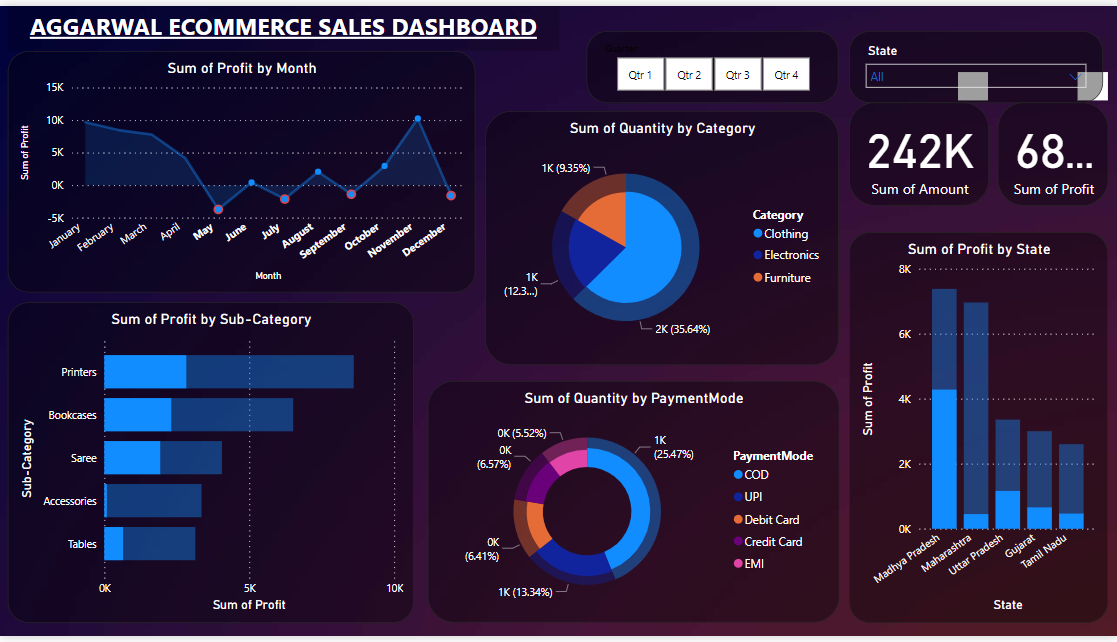

Layout of this report page (visuals, bound fields, positions):
{"tool":"powerbi","page":{"name":"Page 1","canvas":[1280,720],"ordinal":0},"visuals":[{"type":"textbox","box":[10,0,630,51.4],"z":0},{"type":"areaChart","fields":{"Category":["Orders.Order Date.Variation.Date Hierarchy.Month"],"Y":["Sum(Details.Profit)"]},"box":[10,51.4,534.3,275.7],"z":1000},{"type":"barChart","fields":{"Category":["Details.Sub-Category"],"Y":["Sum(Details.Profit)"]},"box":[10,338,464,366],"z":2000},{"type":"pieChart","fields":{"Category":["Details.Category"],"Y":["Sum(Details.Quantity)"]},"box":[556,120,404,290],"z":3000},{"type":"donutChart","fields":{"Y":["Sum(Details.Quantity)"],"Category":["Details.PaymentMode"]},"box":[490,428,470,276],"z":4000},{"type":"card","fields":{"Values":["Sum(Details.Amount)"]},"box":[972,110,160,118],"z":5000},{"type":"card","fields":{"Values":["Sum(Details.Profit)"]},"box":[1142,110,126,118],"z":6000},{"type":"clusteredColumnChart","fields":{"Category":["Orders.State"],"Y":["Sum(Details.Profit)"]},"box":[972,258,296,446],"z":7000},{"type":"slicer","fields":{"Values":["Orders.Order Date.Variation.Date Hierarchy.Quarter"]},"box":[672,28,288,82],"z":8000},{"type":"slicer","fields":{"Values":["Orders.State"]},"box":[972,28,290,82],"z":9000}]}

Visuals, with their boxes in screenshot pixels (x1, y1, x2, y2), scaled from the page's 1280x720 canvas onto the 1117x642 screenshot:
textbox: {"x1": 9, "y1": 0, "x2": 558, "y2": 46}
areaChart - Orders.Order Date.Variation.Date Hierarchy.Month x Sum(Details.Profit): {"x1": 9, "y1": 46, "x2": 475, "y2": 292}
barChart - Details.Sub-Category x Sum(Details.Profit): {"x1": 9, "y1": 301, "x2": 414, "y2": 628}
pieChart - Details.Category x Sum(Details.Quantity): {"x1": 485, "y1": 107, "x2": 838, "y2": 366}
donutChart - Sum(Details.Quantity) x Details.PaymentMode: {"x1": 428, "y1": 382, "x2": 838, "y2": 628}
card - Sum(Details.Amount): {"x1": 848, "y1": 98, "x2": 988, "y2": 203}
card - Sum(Details.Profit): {"x1": 997, "y1": 98, "x2": 1107, "y2": 203}
clusteredColumnChart - Orders.State x Sum(Details.Profit): {"x1": 848, "y1": 230, "x2": 1107, "y2": 628}
slicer - Orders.Order Date.Variation.Date Hierarchy.Quarter: {"x1": 586, "y1": 25, "x2": 838, "y2": 98}
slicer - Orders.State: {"x1": 848, "y1": 25, "x2": 1101, "y2": 98}
